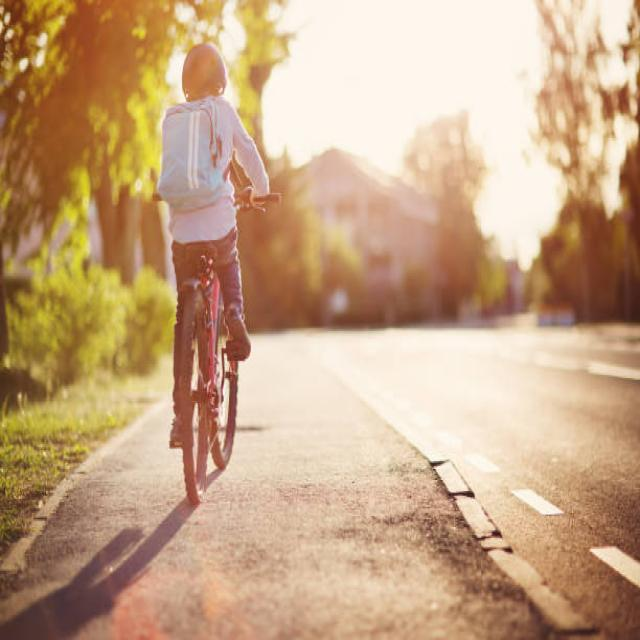bicycle: (159, 45, 271, 503)
